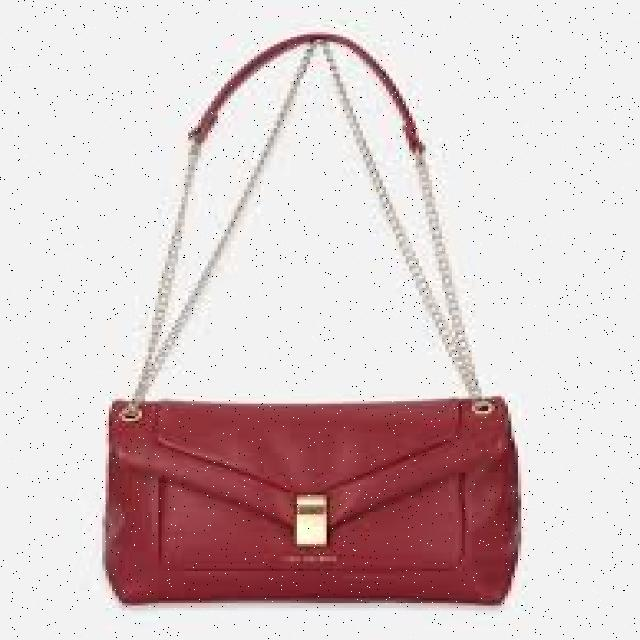handbag: (102, 29, 522, 606)
